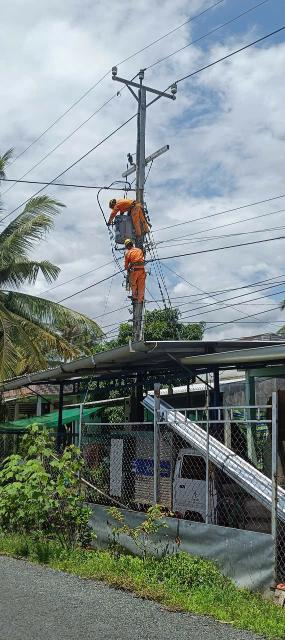harness: (127, 262, 152, 273), (130, 199, 141, 211)
helmet: (104, 196, 117, 208), (122, 237, 135, 249)
shoes: (127, 295, 137, 301)
